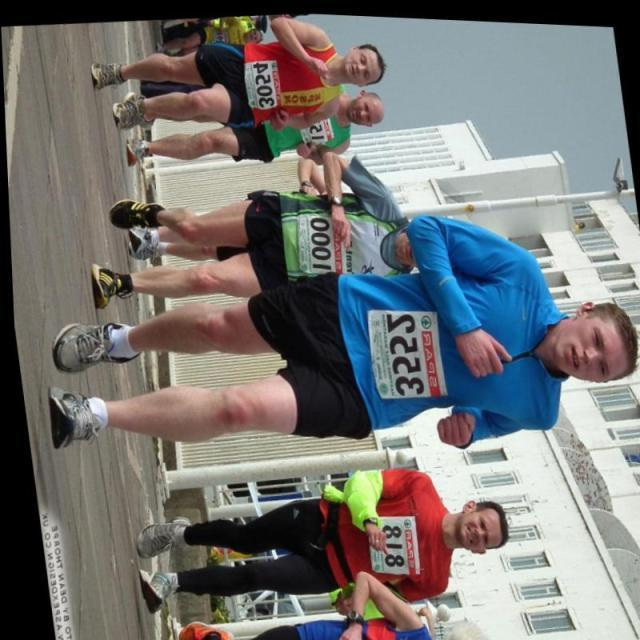dorsal: (351, 292, 450, 406), (352, 495, 422, 584), (284, 201, 348, 280), (237, 53, 287, 114)
